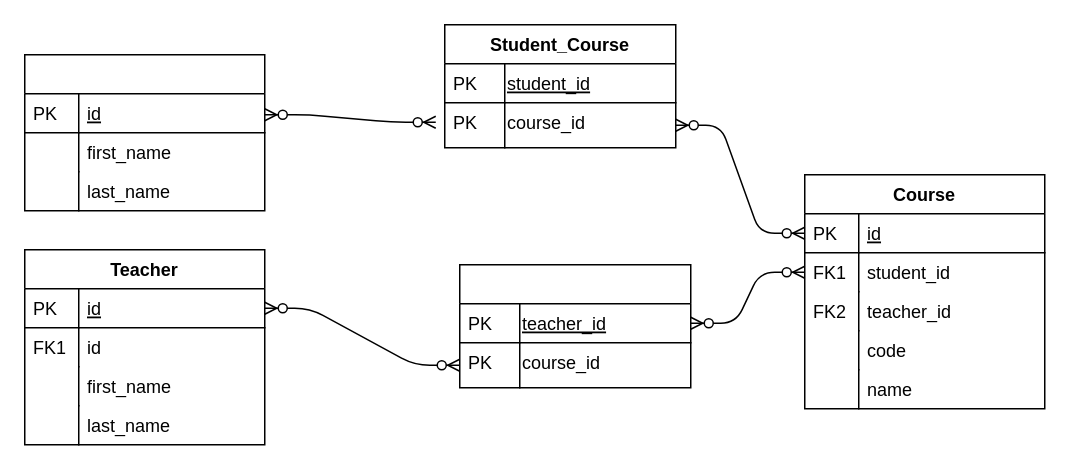
The diagram is 1070 pixels wide and 470 high, and some of its shapes have lost their labels. Here are the shapes that lost their labels. From the top down, the box of each, then its label:
(23, 53, 265, 211): Student
(458, 263, 691, 388): Teacher_Course
